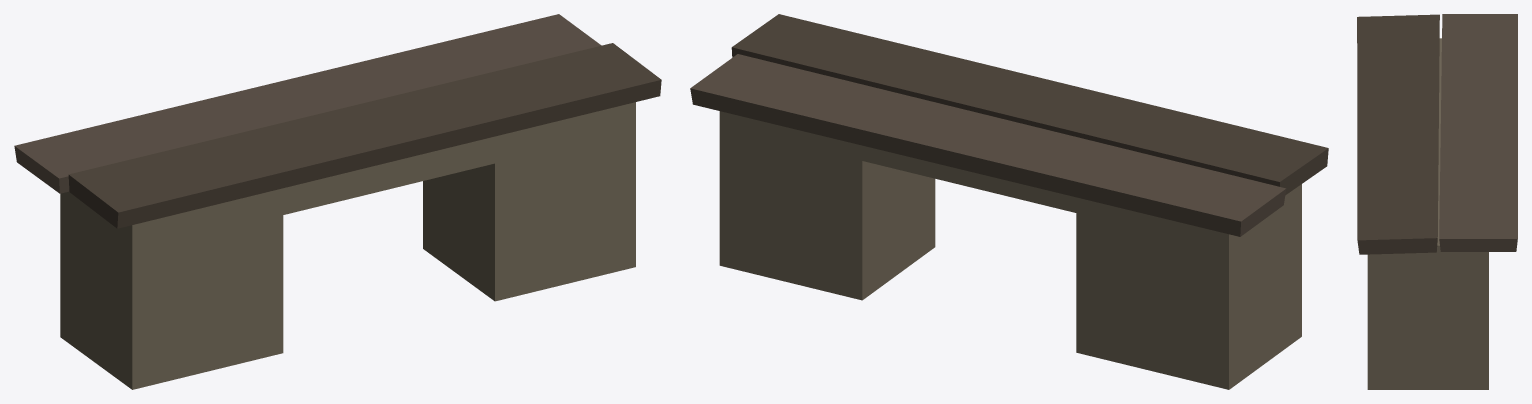
Rendered from tavolo_sceriffo.fbx.
3 renders of one model, left to right at view 1: azimuth 30°, elevation 25°; view 2: azimuth 150°, elevation 25°; view 3: azimuth 270°, elevation 25°, orthographic. The views are drawn at different scales.
Parts seen in each view (by area): view 1: MSH_tavolo_sceriffo; view 2: MSH_tavolo_sceriffo; view 3: MSH_tavolo_sceriffo.
Boxes of the visible parts, x1,y1,x2,y2 form: MSH_tavolo_sceriffo: [14, 14, 661, 389]; MSH_tavolo_sceriffo: [690, 14, 1328, 389]; MSH_tavolo_sceriffo: [1357, 14, 1517, 389].
Bounding box in the file's own units: 35.41 × 11.6 × 10.59.
